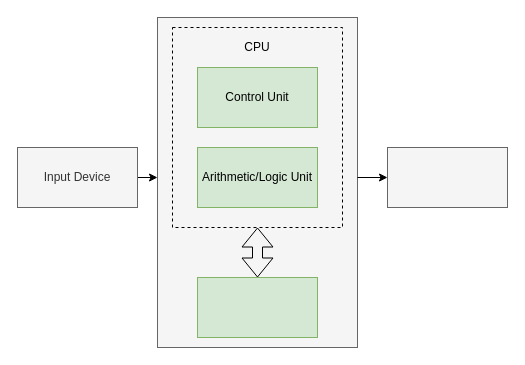
The diagram is 525 pixels wide and 365 high, and some of its shapes have lost their labels. The shapes that lost their labels are listed below. From the top down, each one's box as (x1, y1, x2, y2) in pixels, then its label:
(386, 146, 508, 208): Output Device
(196, 276, 318, 338): Memory Unit
